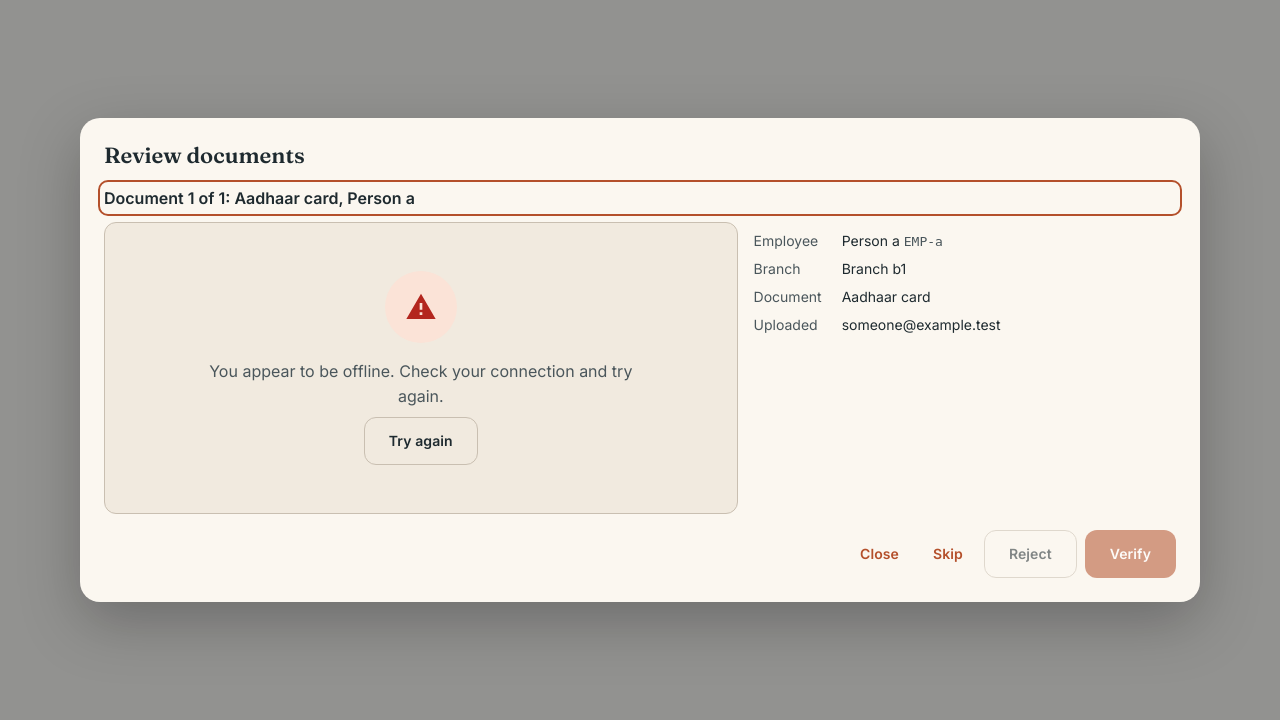
Test: reviewing documents › keeps a document that could not be decided, with the reason, and can ask for a file again
Click the button "Try again" at (421, 441), box left=364, top=417, right=478, bottom=465
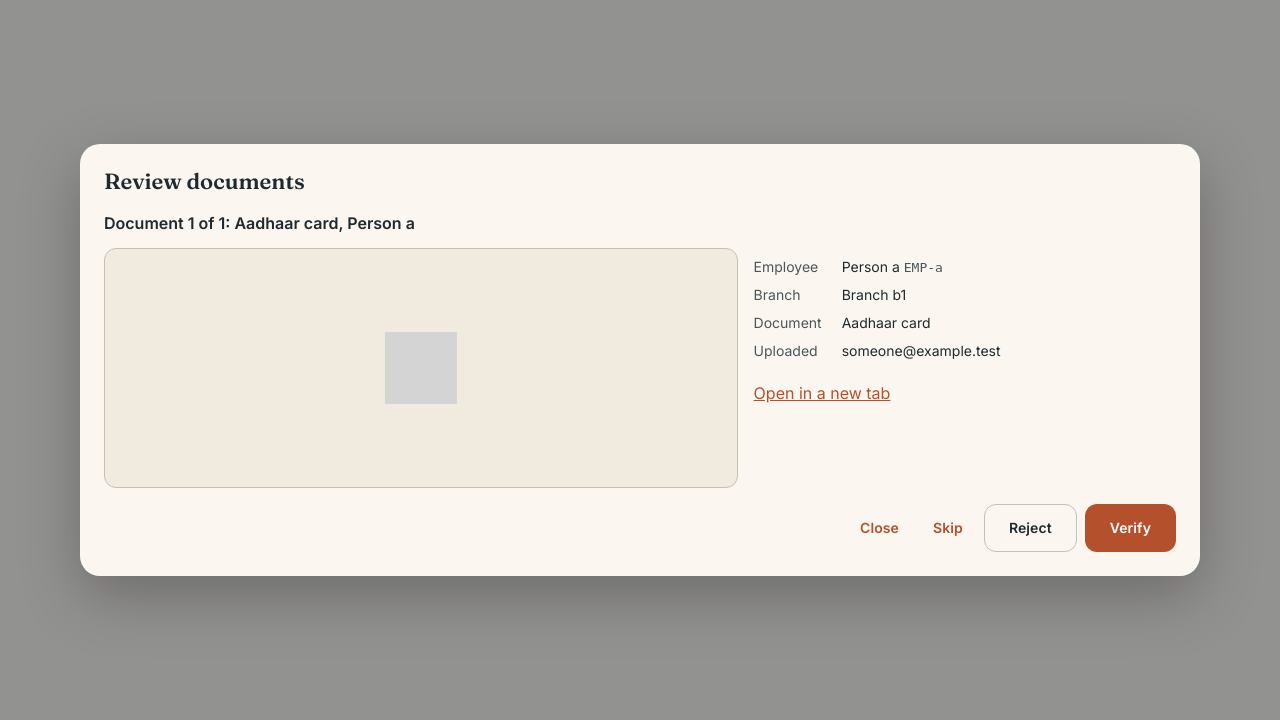
Click the button "Verify" at (1130, 528), box left=1085, top=504, right=1176, bottom=552
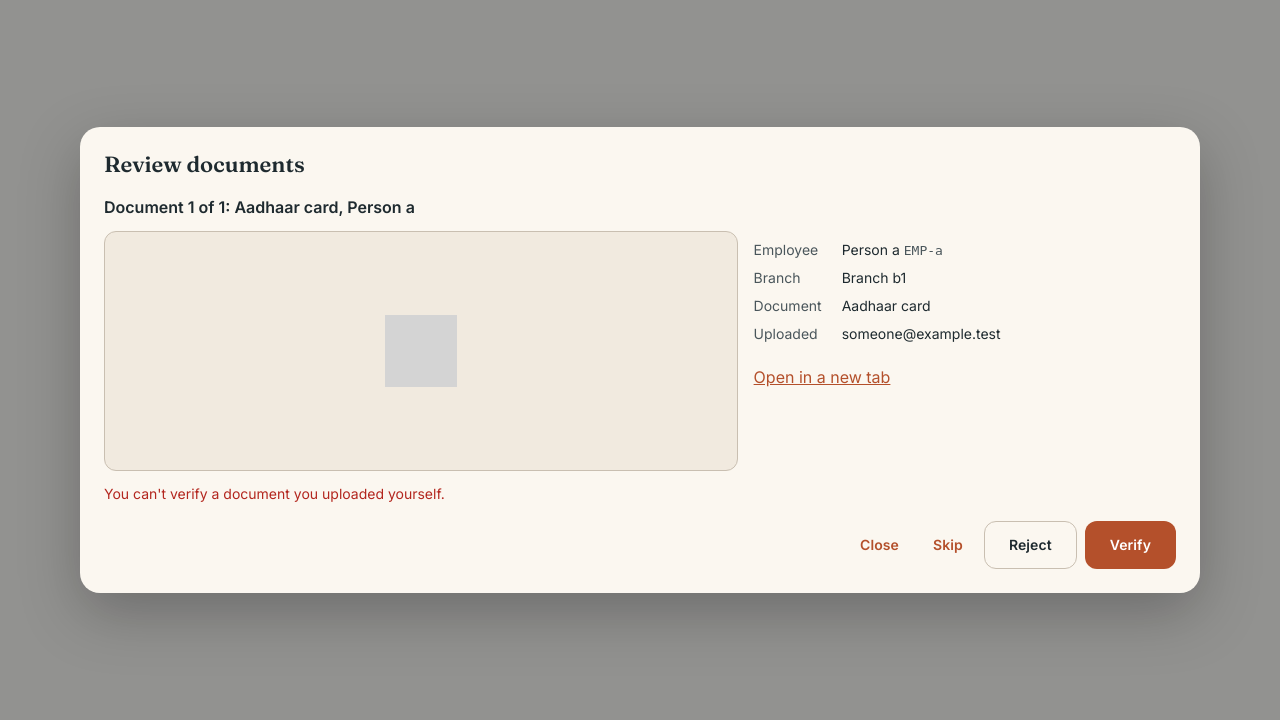
Now the message reads "You can't verify a document you uploaded yourself.", box left=104, top=485, right=445, bottom=502
